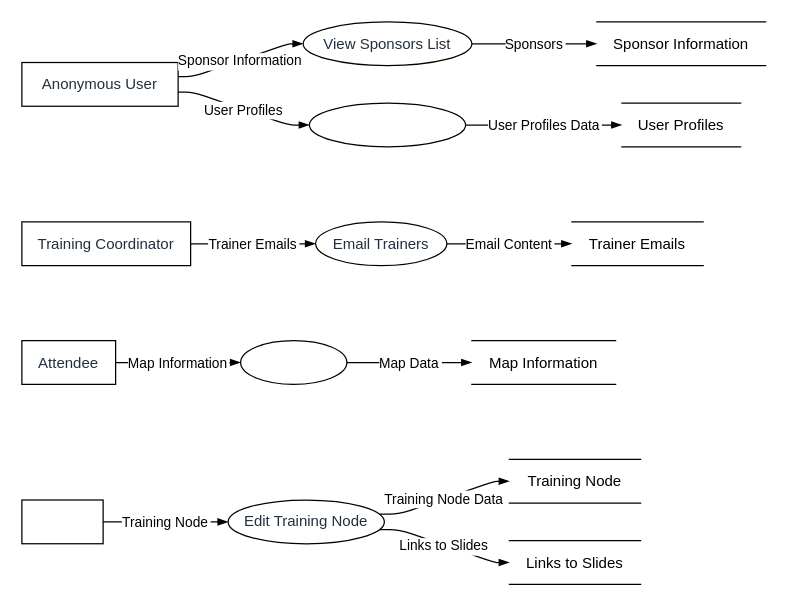
Some shapes in this 788 by 606 pixel diagram are drawn without their labels. The centre of each missing label's shape, as x and y in pixels:
Trainer: the point at 62,521
View Map: the point at 293,361
View User Profiles: the point at 387,124
